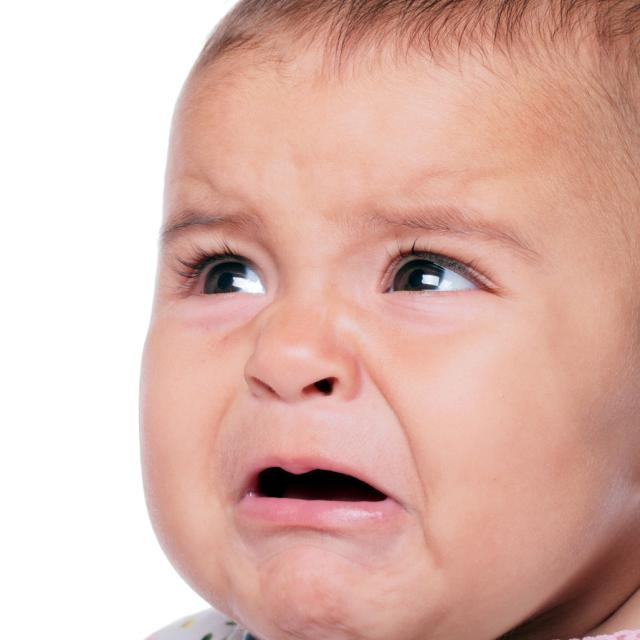Depress: (140, 42, 639, 639)
